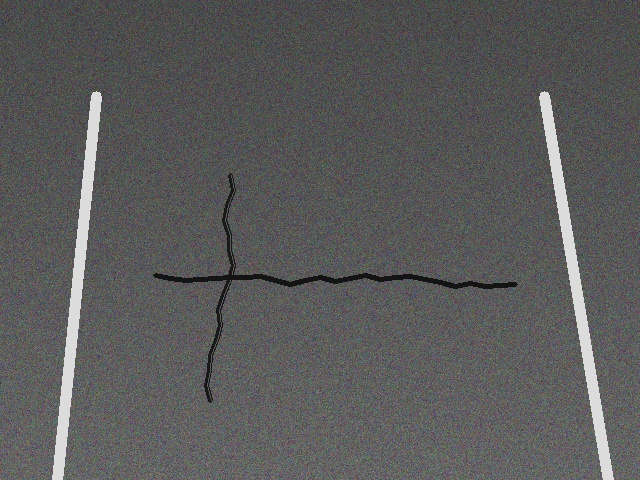D00: (191, 175, 248, 402)
D10: (155, 260, 528, 301)
